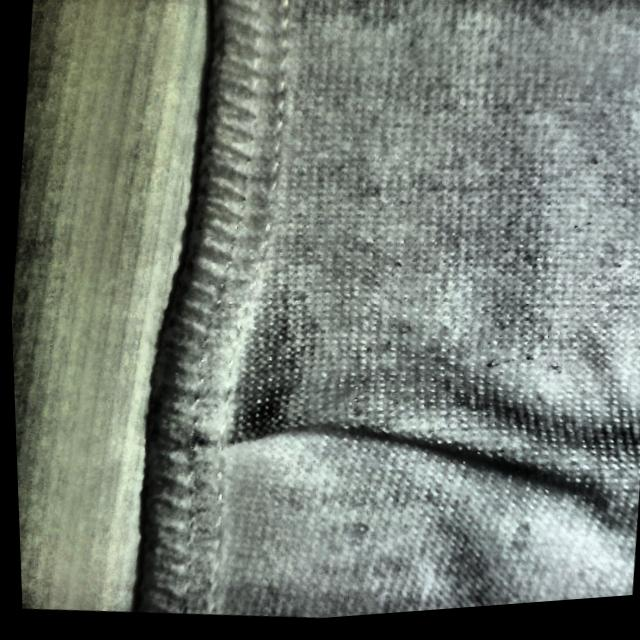seam: (139, 357, 438, 500)
